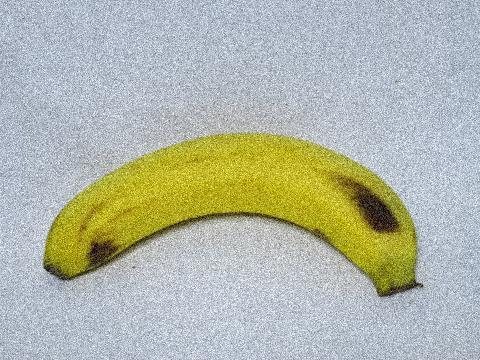freshripe: (34, 118, 434, 326)
